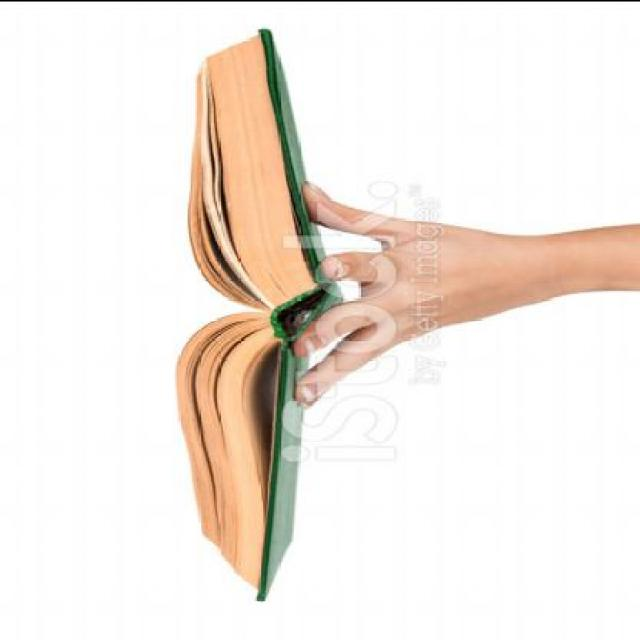book: (130, 22, 362, 610)
